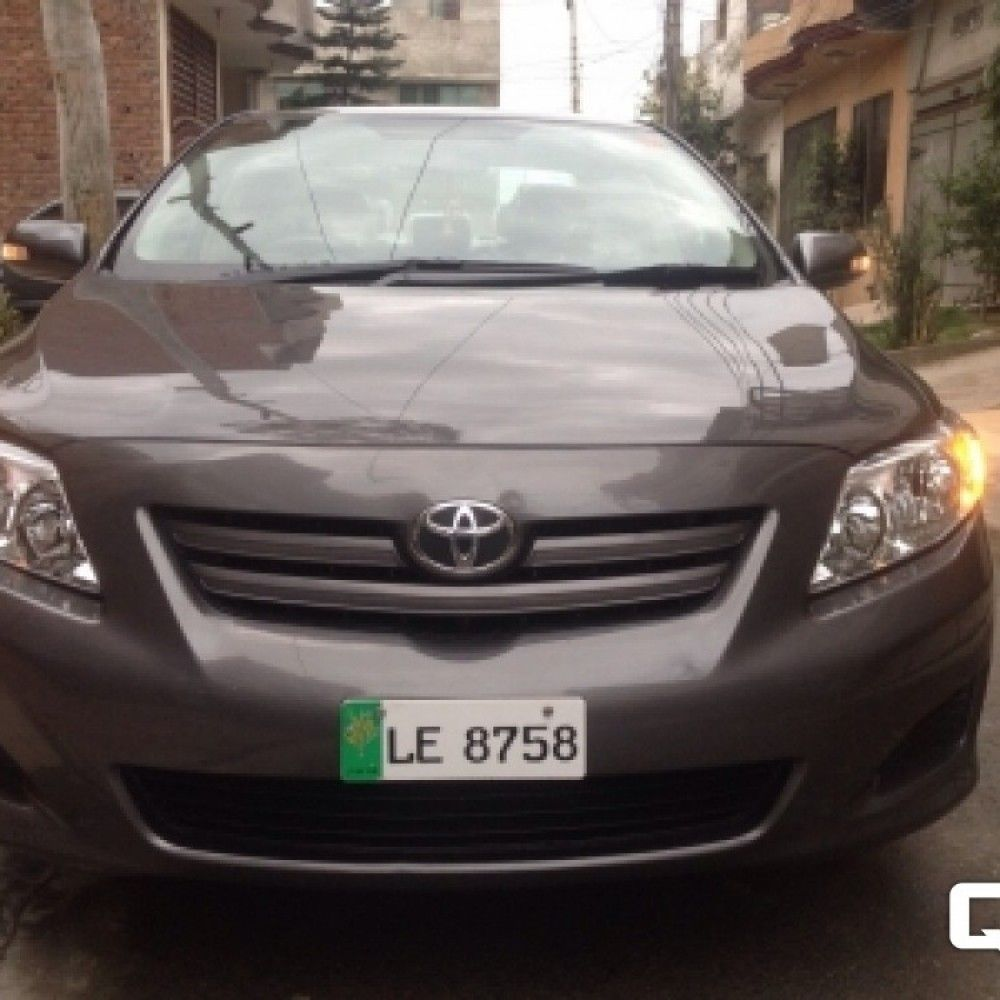License-Plate: (335, 696, 592, 787)
